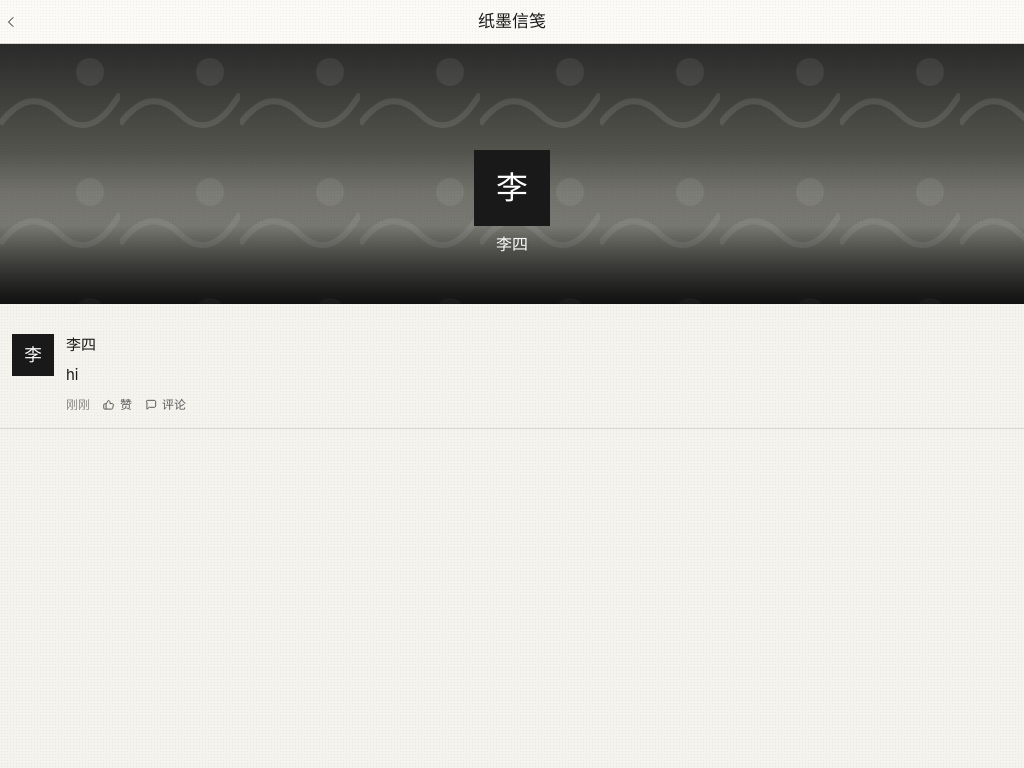
FriendMoments 好友朋友圈流 › 评论提交后本地渲染并清空输入
Expected: the element with test id "friend-moment-item" is shown, [0,320,1023,429]
Click the button with test id "fm-comment-btn".
click(165, 405)  # box [144,396,186,414]
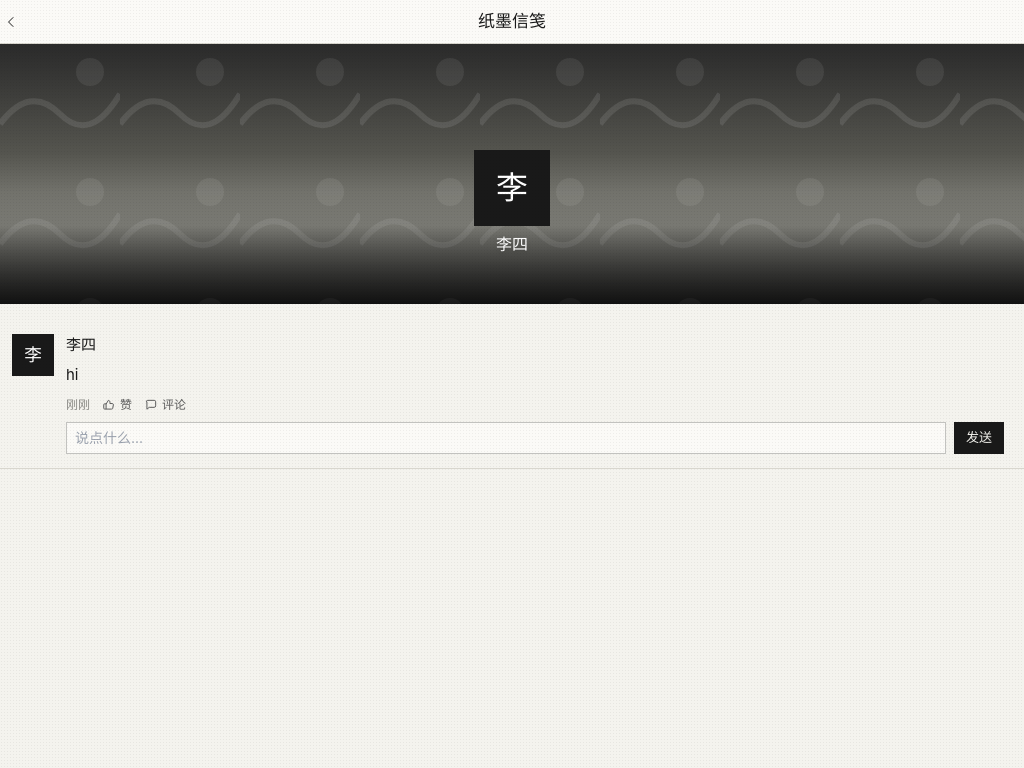
Type "写得好" into the field with placeholder "说点什么...".
click(506, 438); type("写得好")  # box [66,422,946,454]
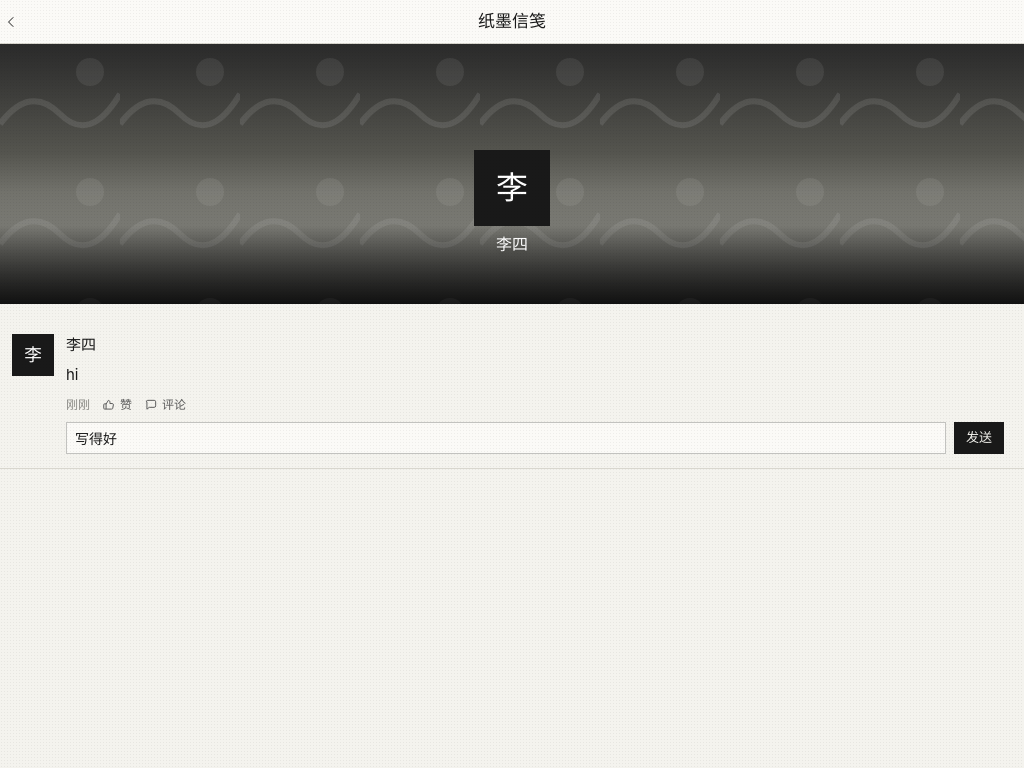
Submit the form with placeholder "说点什么...", box [66,422,1004,454]
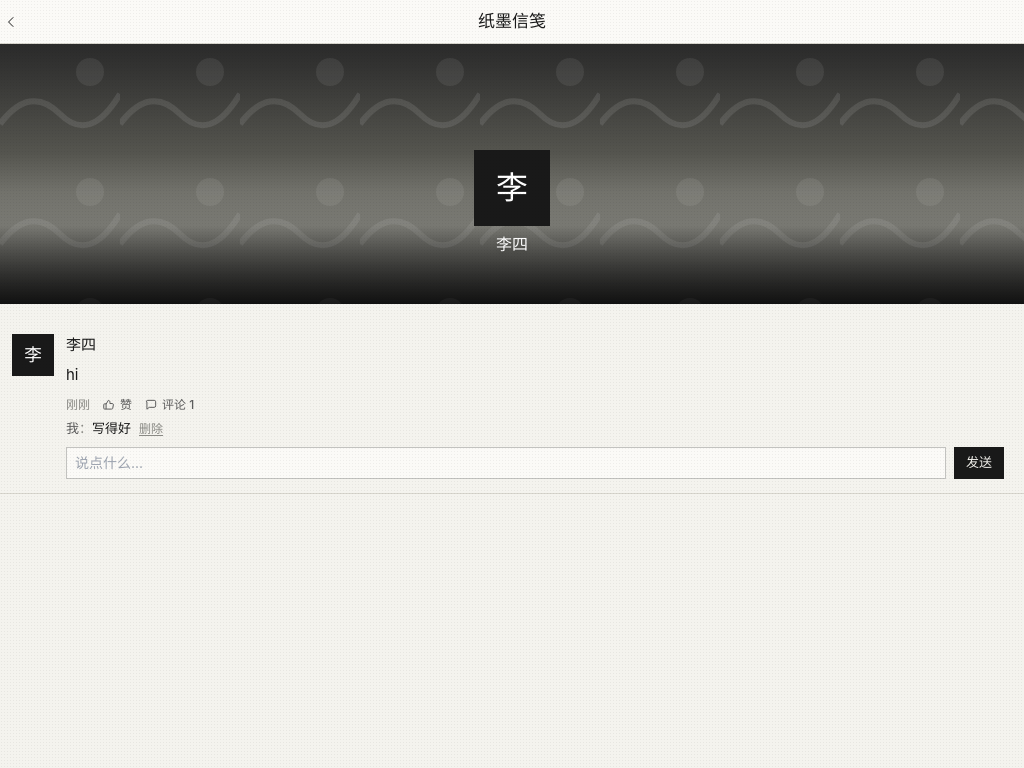
Now the element with test id "fm-comment" is shown, box [66,419,163,439]
Now the text "写得好" is shown, box [92,420,131,436]
Now the field with placeholder "说点什么..." is empty, box [66,447,946,479]
